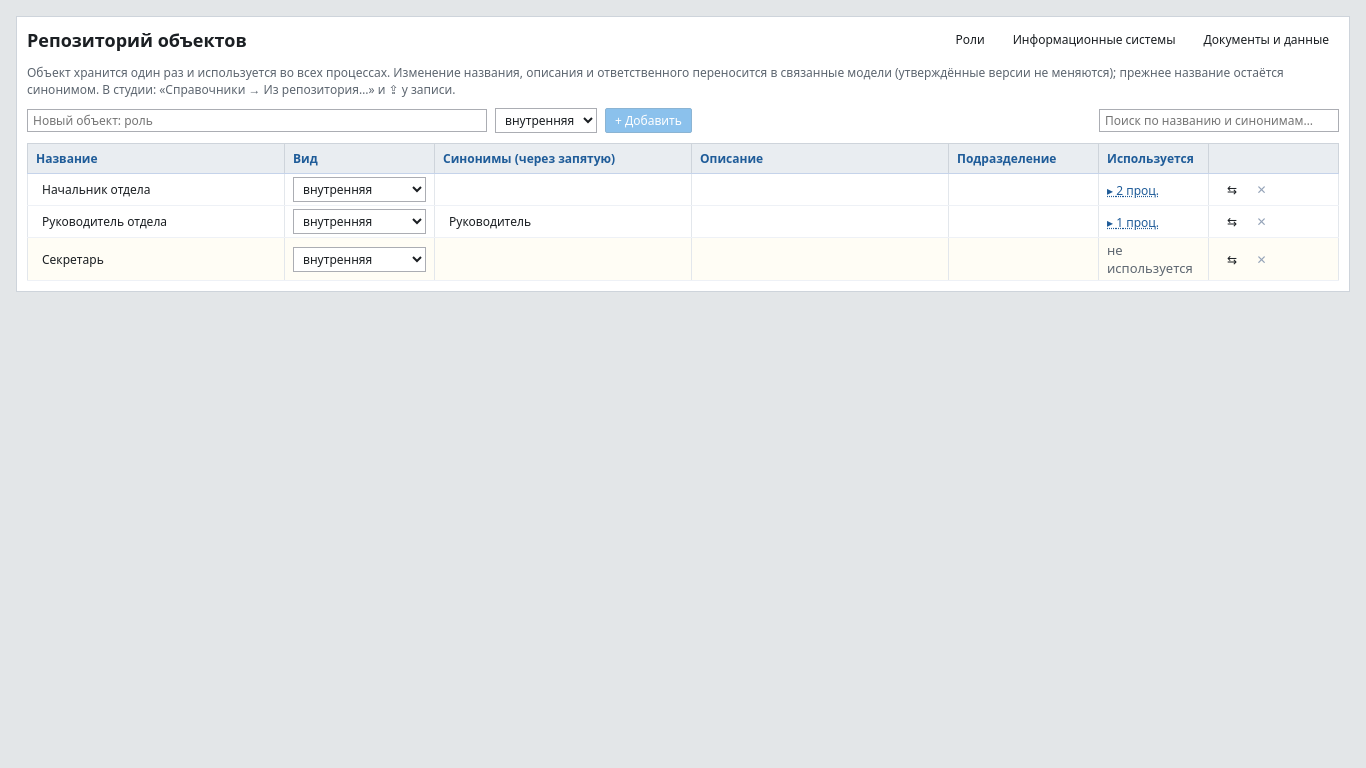
Scenario: репозиторий: слияние и удаление через диалог › подтверждённое слияние уходит на сервер, окно закрывается, результат показан
Expected: the 1st field showing "Начальник отдела" is shown, [36, 178, 276, 201]
What coordinates should you click on to do the following:
click the 1st button titled "Объединить с другим объектом (дубли)"
I would click on:
 (1232, 190)
Its box is [1217, 177, 1247, 202].
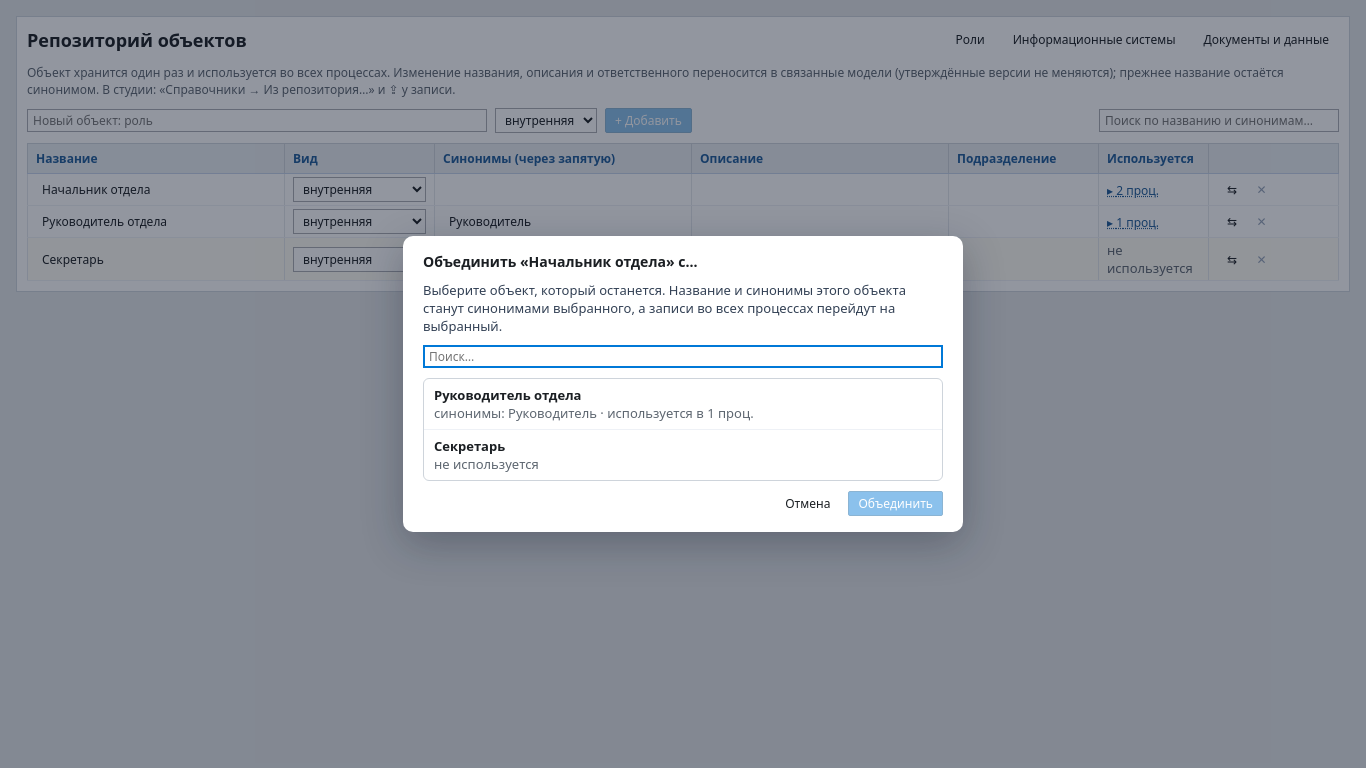
What coordinates should you click on to do the following:
click the text "Руководитель отдела"
I would click on:
 (508, 395)
Its box is [434, 386, 581, 404].
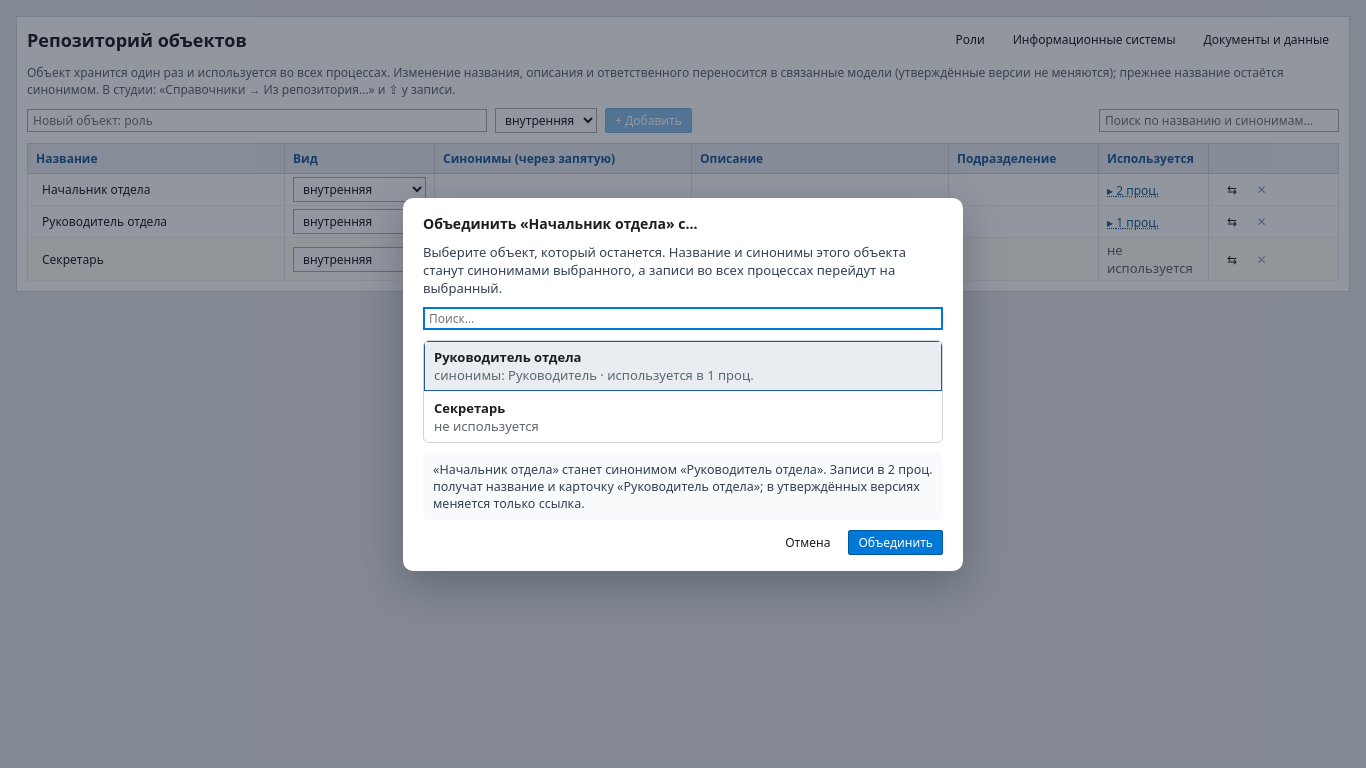
What coordinates should you click on to do the following:
click the button "Объединить"
I would click on:
 (896, 542)
Its box is [848, 530, 943, 554].
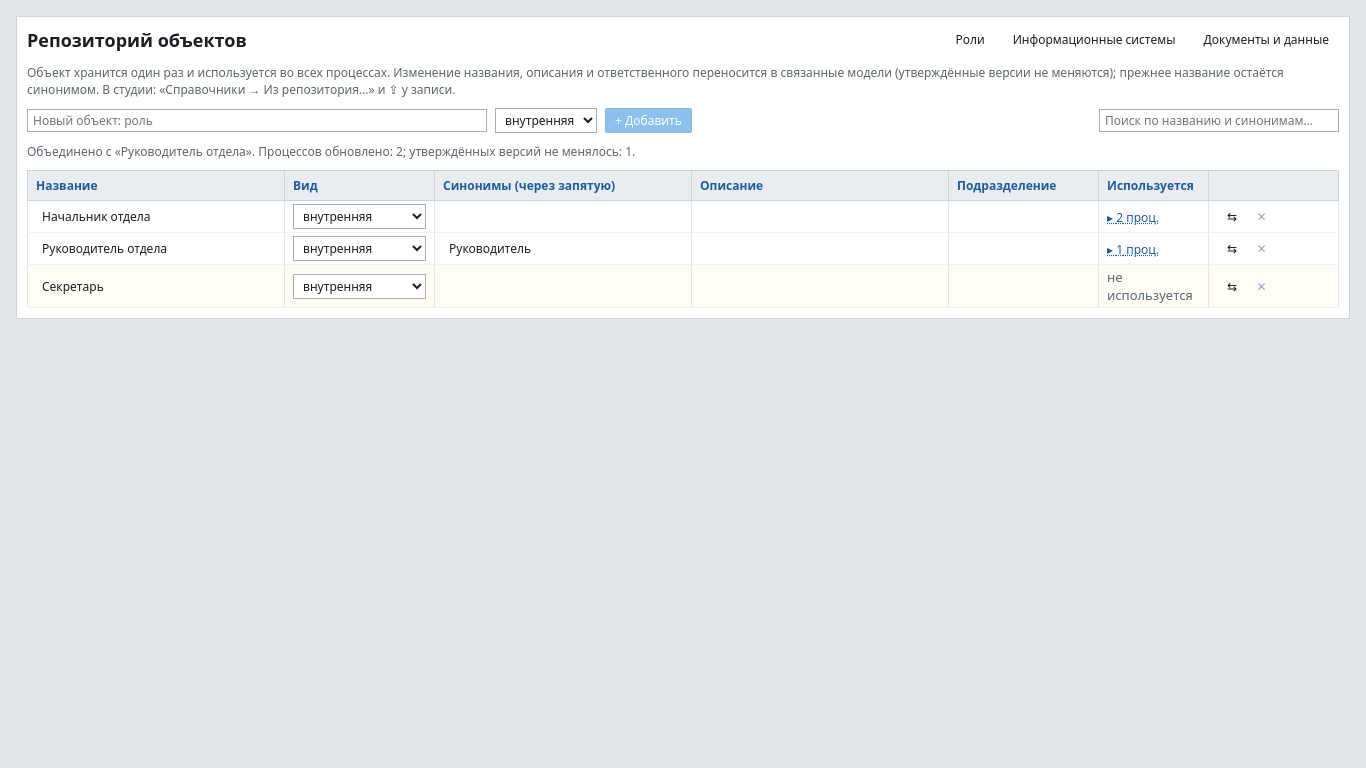
Result: the dialog is gone
Result: the text "Объединено с «Руководитель отдела». Процессов обновлено: 2; утверждённых версий не менялось: 1." is shown at [27, 143, 635, 160]
